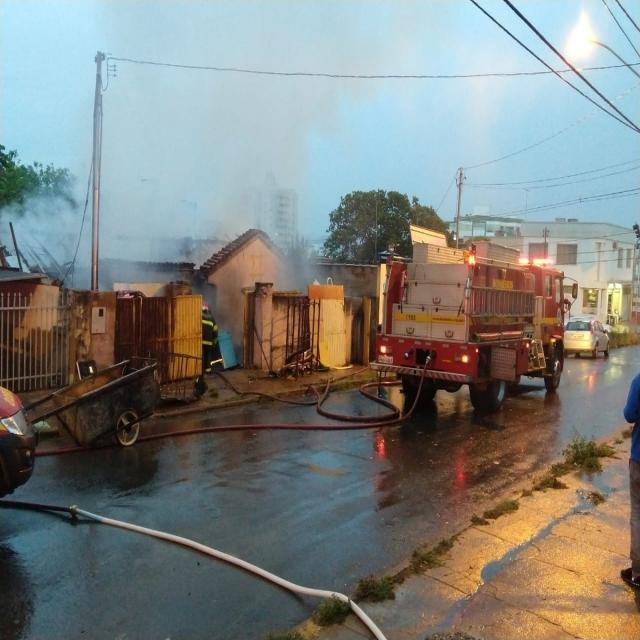Smoke: (192, 41, 374, 212), (7, 177, 154, 284), (268, 218, 322, 286)
